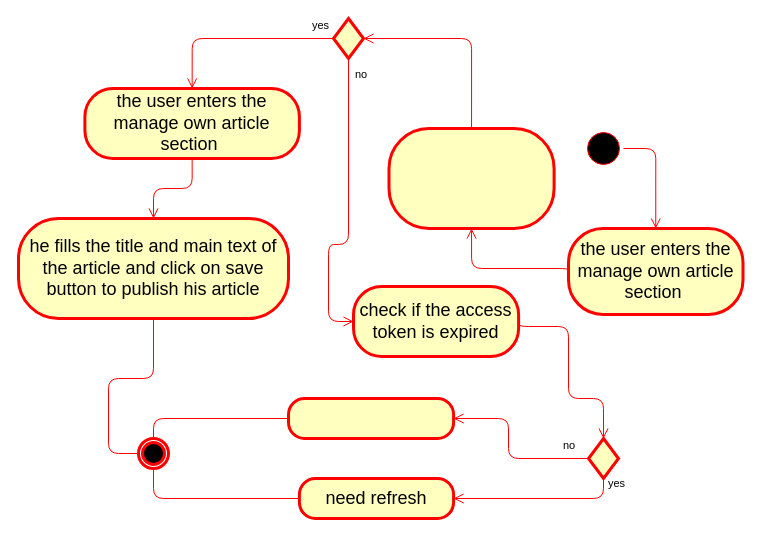
Image size: 762x537. Some labels were removed from this diagram. Here are the shapes that lost their labels. From the top down, the box of each, then its label:
(387, 126, 555, 230): checks if the credentials of user exists or are valid
(286, 396, 455, 440): error message
